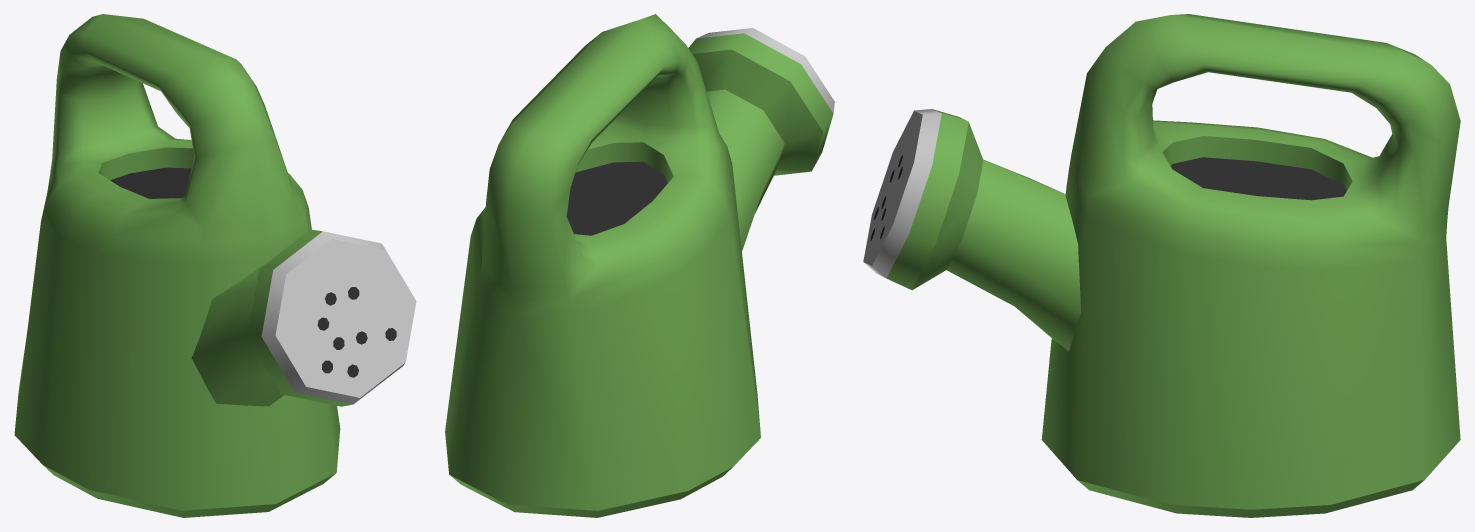
Rendered from WateringCan_01.fbx.
3 views of the same model, side by side, from view 1: azimuth 30°, elevation 25°; view 2: azimuth 150°, elevation 25°; view 3: azimuth 270°, elevation 25° (orthographic). The views are drawn at different scales.
Parts seen in each view (by area): view 1: WateringCan_01; view 2: WateringCan_01; view 3: WateringCan_01.
Boxes of the visible parts, left/top/right/bottom form: WateringCan_01: left=14, top=14, right=416, bottom=517; WateringCan_01: left=445, top=14, right=834, bottom=517; WateringCan_01: left=863, top=14, right=1460, bottom=517.
Bounding box in the file's own units: 0.2647 × 0.3881 × 0.4788.
